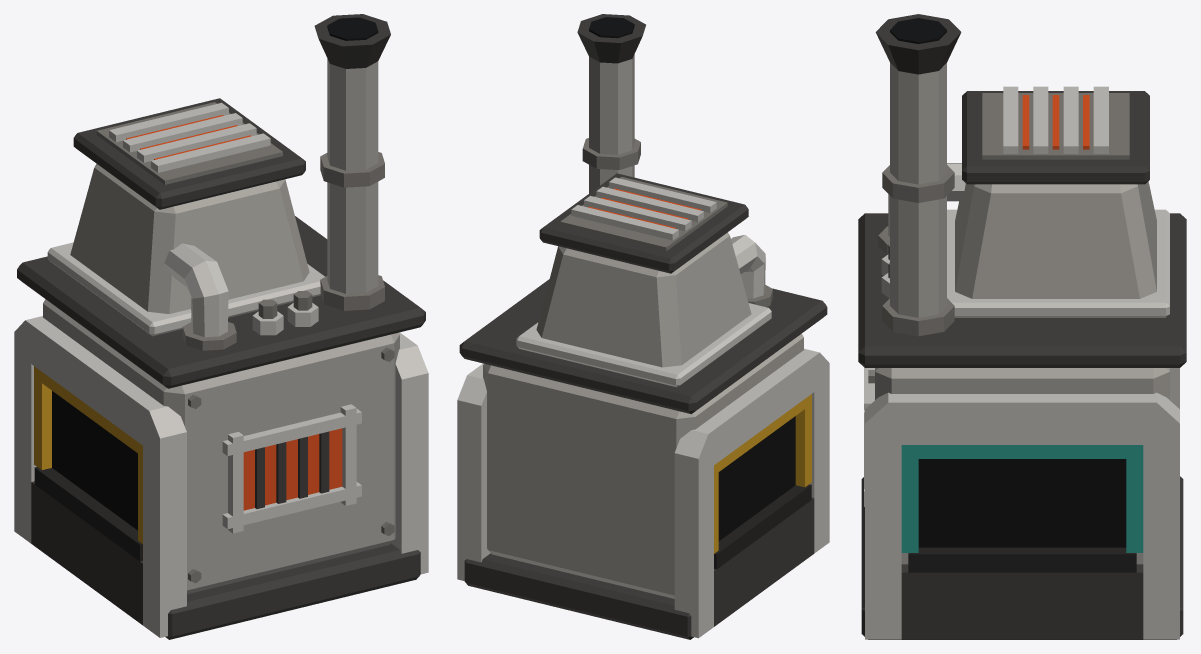
The model's file is smelter.fbx.
3 renders of one model, left to right at view 1: azimuth 30°, elevation 25°; view 2: azimuth 150°, elevation 25°; view 3: azimuth 270°, elevation 25°, orthographic. The views are drawn at different scales.
Parts seen in each view (by area): view 1: smelter; view 2: smelter; view 3: smelter.
Part boxes in pixels (x1,y1,x2,y2): smelter: (14, 14, 428, 639); smelter: (457, 14, 829, 639); smelter: (858, 14, 1186, 639).
Size of the model in its own units: 3 by 5.81 by 2.94.
